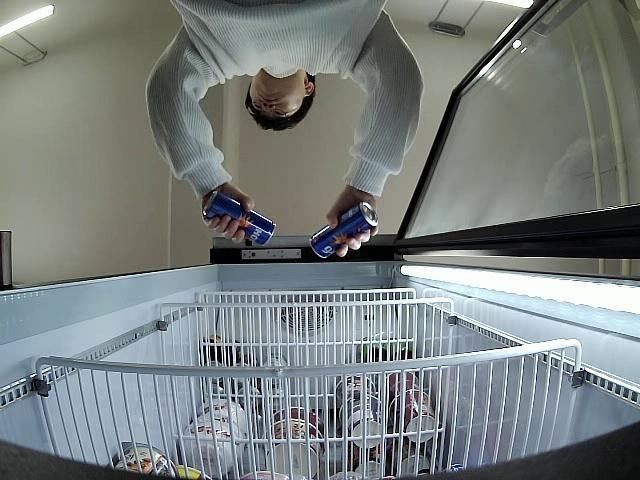16_hot6: (202, 192, 276, 246), (310, 204, 376, 258)
